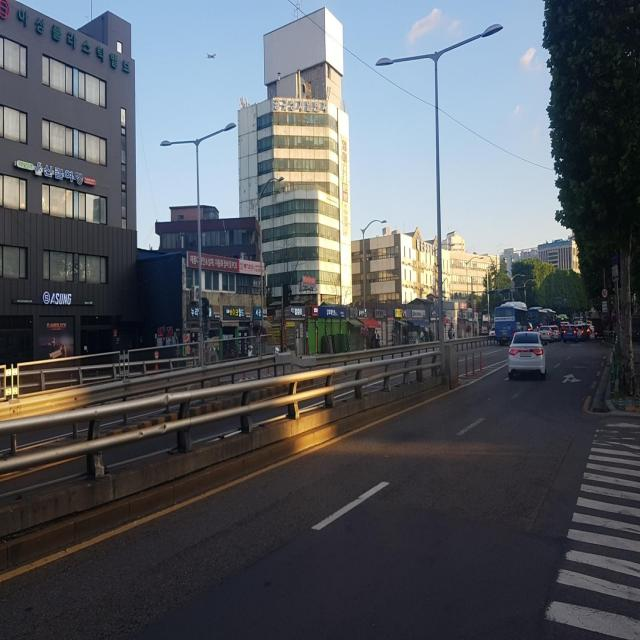횡단보도: (542, 420, 640, 640)
